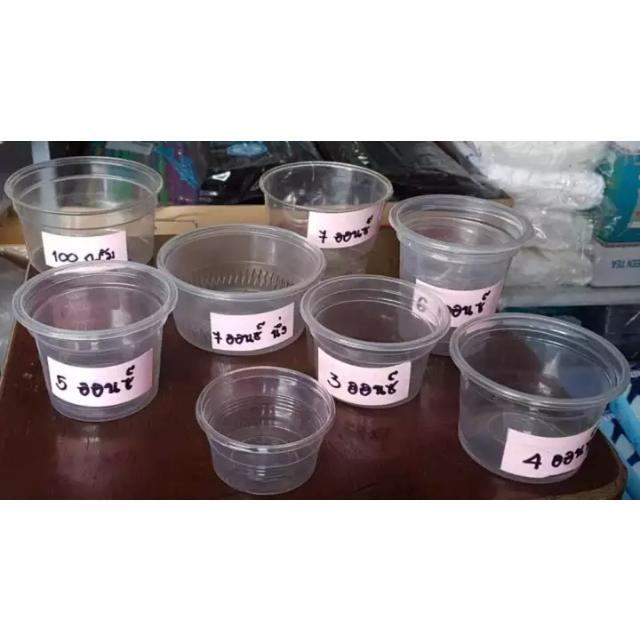PET Bottle: (446, 308, 627, 471), (10, 265, 176, 433), (146, 219, 326, 354), (388, 188, 534, 353), (299, 275, 451, 416), (199, 360, 333, 491), (6, 160, 162, 268), (268, 144, 382, 287)
